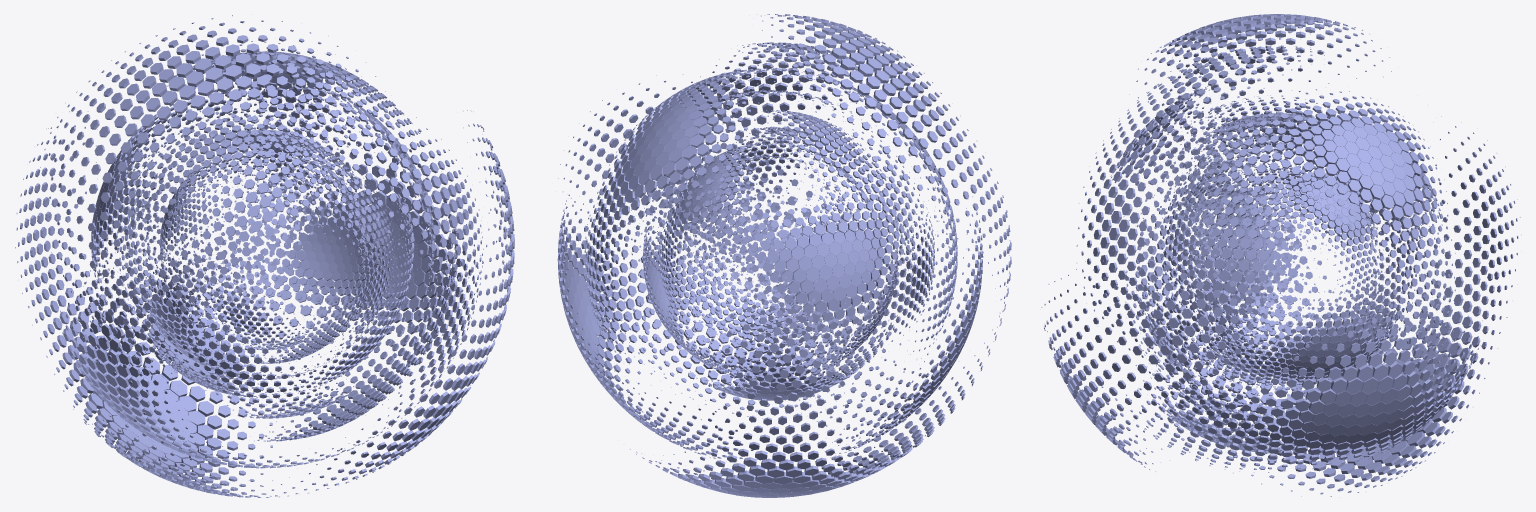
The model's file is Ball_my_site.glb.
3 renders of one model, left to right at view 1: azimuth 30°, elevation 25°; view 2: azimuth 150°, elevation 25°; view 3: azimuth 270°, elevation 25°, orthographic. The views are drawn at different scales.
Visible parts, largest first — view 1: Plane_Material.001_0.004, Plane, Plane_Material.001_0.002, Plane_Material.001_0.001, Plane_Material.001_0.003; view 2: Plane_Material.001_0.004, Plane, Plane_Material.001_0.002, Plane_Material.001_0.001, Plane_Material.001_0.003; view 3: Plane_Material.001_0.004, Plane, Plane_Material.001_0.002, Plane_Material.001_0.001, Plane_Material.001_0.003.
Boxes of the visible parts, x1,y1,x2,y2 form: Plane_Material.001_0.004: [15, 15, 514, 496]; Plane: [91, 89, 446, 418]; Plane_Material.001_0.002: [15, 15, 514, 497]; Plane_Material.001_0.001: [84, 43, 457, 441]; Plane_Material.001_0.003: [141, 123, 395, 379]; Plane_Material.001_0.004: [558, 14, 1011, 497]; Plane: [621, 90, 934, 400]; Plane_Material.001_0.002: [557, 14, 1011, 496]; Plane_Material.001_0.001: [584, 55, 957, 416]; Plane_Material.001_0.003: [643, 127, 898, 379]; Plane_Material.001_0.004: [1044, 14, 1517, 496]; Plane: [1125, 97, 1442, 426]; Plane_Material.001_0.002: [1041, 14, 1520, 496]; Plane_Material.001_0.001: [1117, 66, 1455, 453]; Plane_Material.001_0.003: [1158, 132, 1400, 389].
Bounding box in the file's own units: 1.99 × 2 × 1.96.
